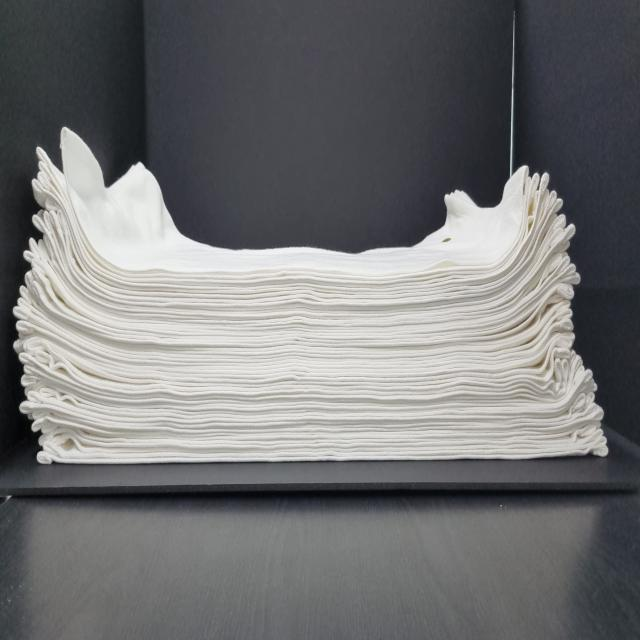50_towel_counts: (0, 97, 622, 481)
